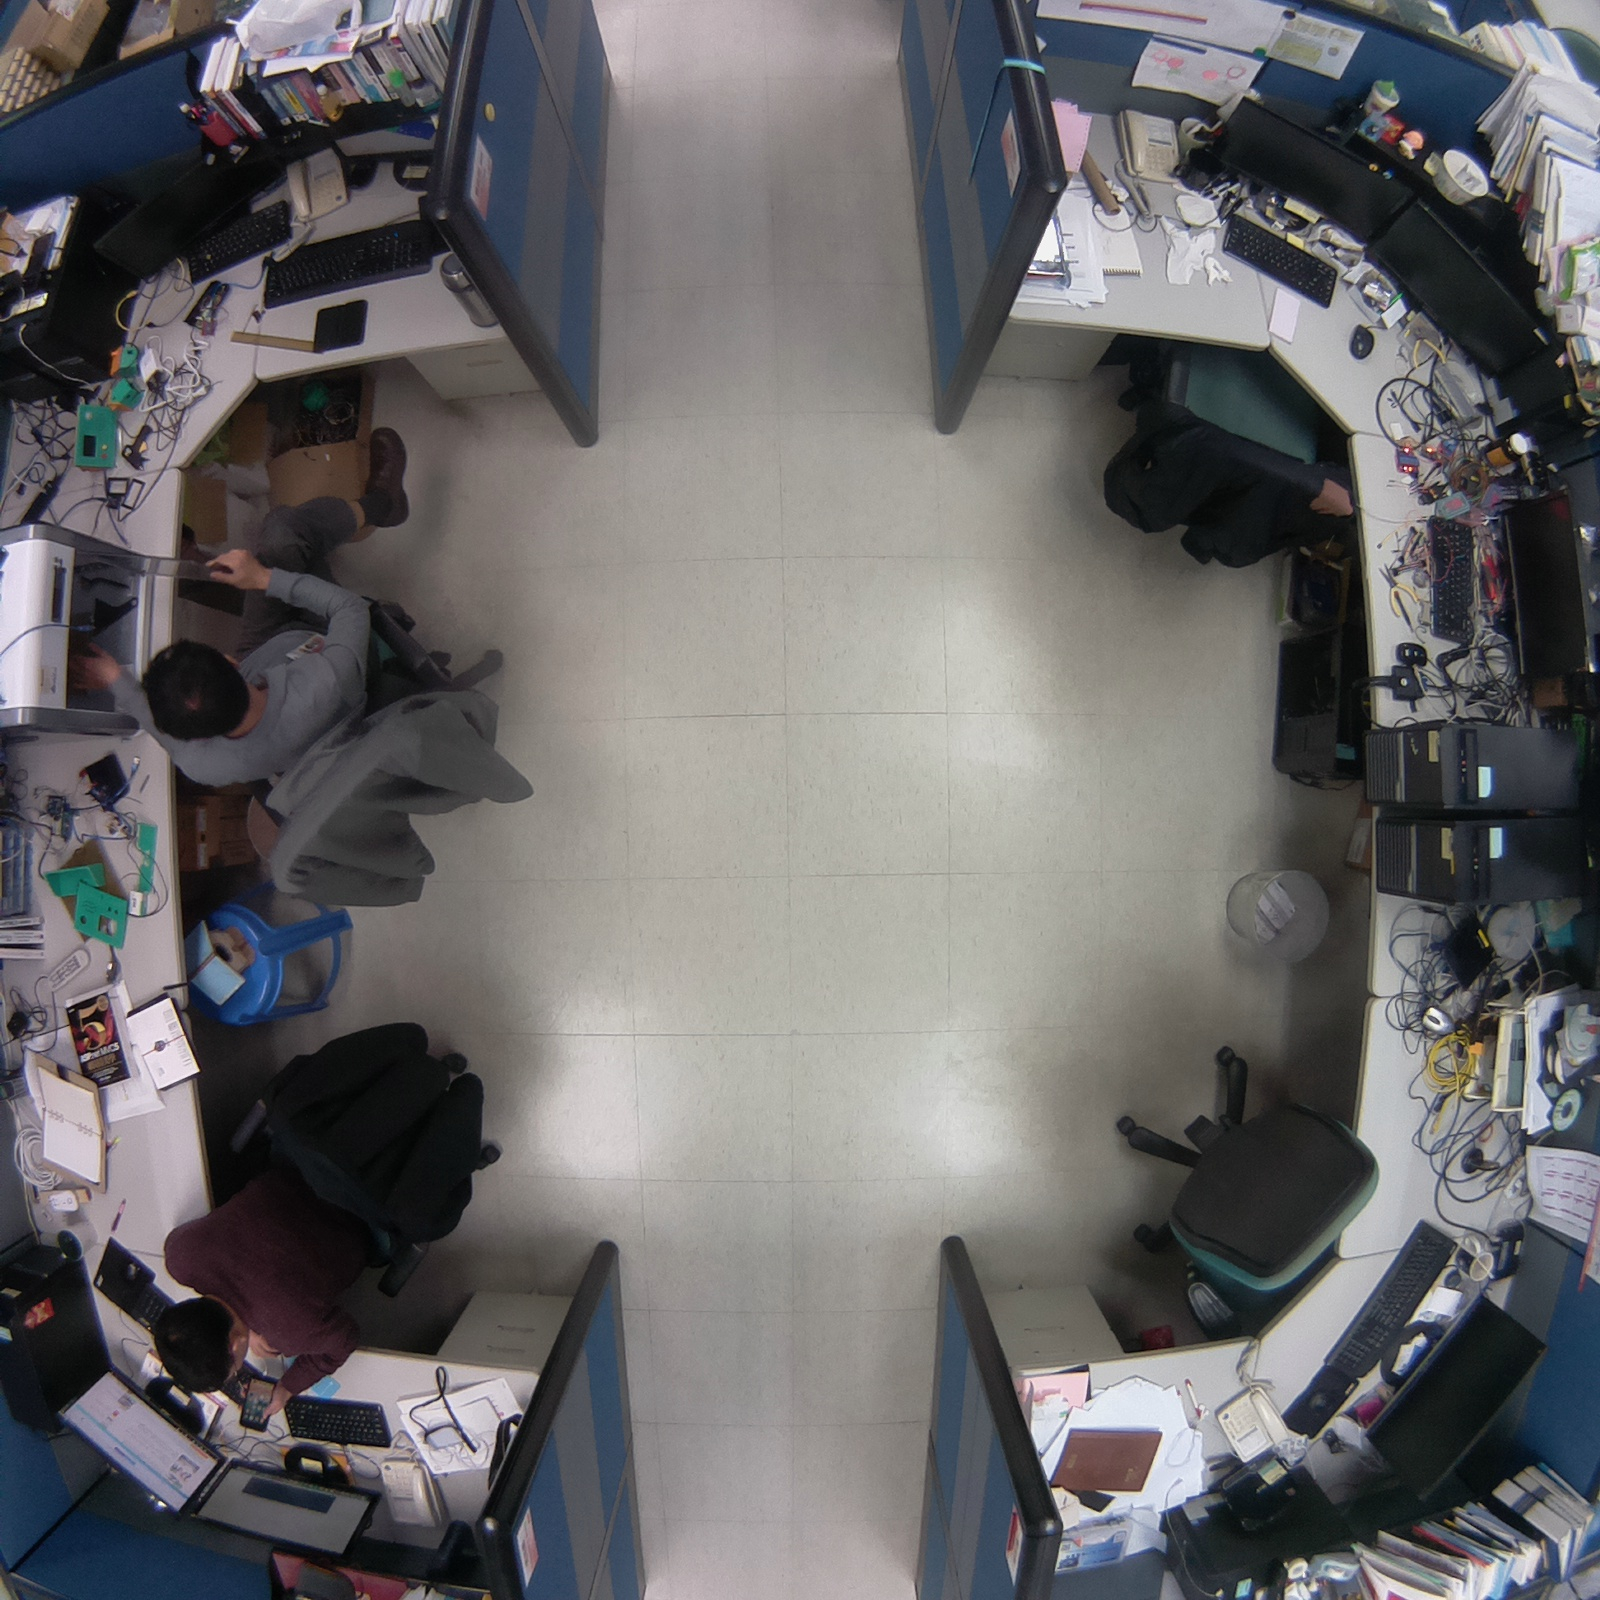chair: (1086, 1009, 1391, 1360), (1073, 317, 1376, 599)
head: (136, 636, 255, 748), (149, 1291, 253, 1400)
sitting: (119, 519, 545, 929), (147, 993, 524, 1411)
